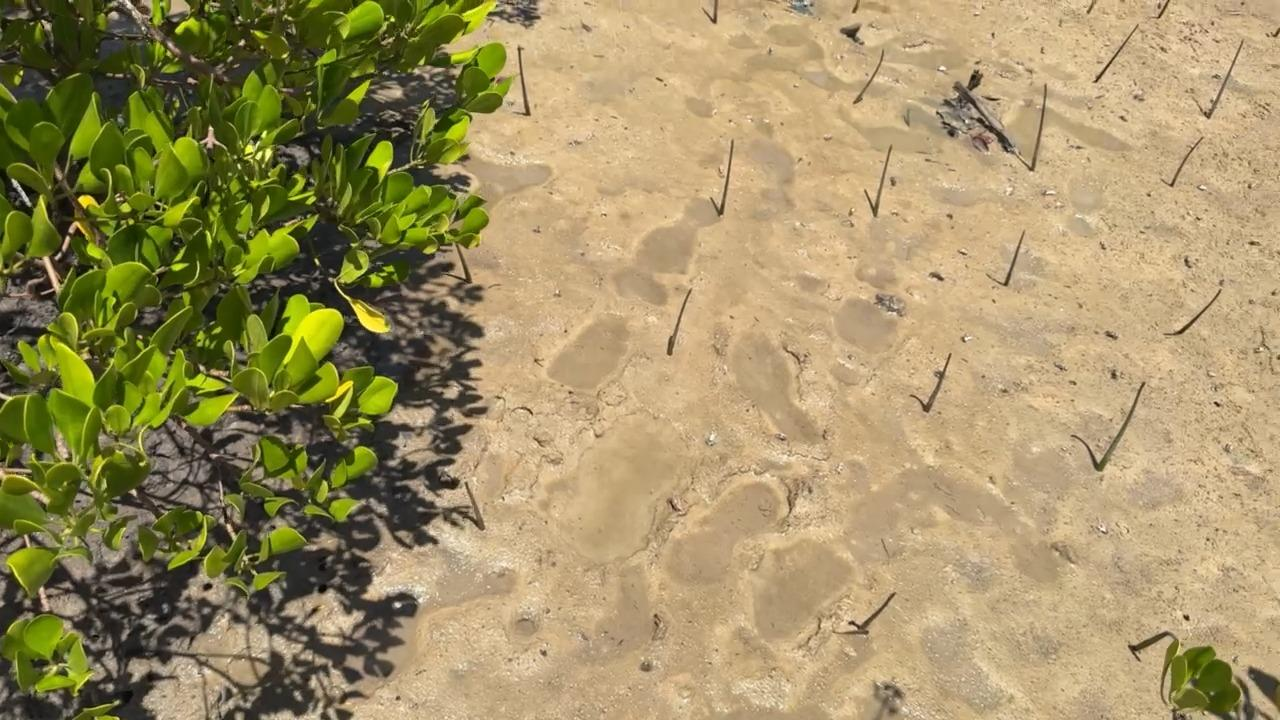Tree: (1097, 381, 1144, 471), (1208, 39, 1243, 119), (1094, 24, 1138, 82), (1176, 289, 1221, 333), (853, 50, 884, 105), (924, 352, 952, 412), (1030, 82, 1048, 170), (1171, 136, 1203, 185), (668, 289, 691, 355), (873, 144, 892, 218), (1003, 230, 1026, 284), (719, 141, 734, 214), (465, 481, 485, 531), (518, 45, 531, 114), (455, 242, 472, 283), (1159, 0, 1170, 18), (1087, 0, 1097, 15), (713, 0, 718, 23), (853, 0, 859, 14)
